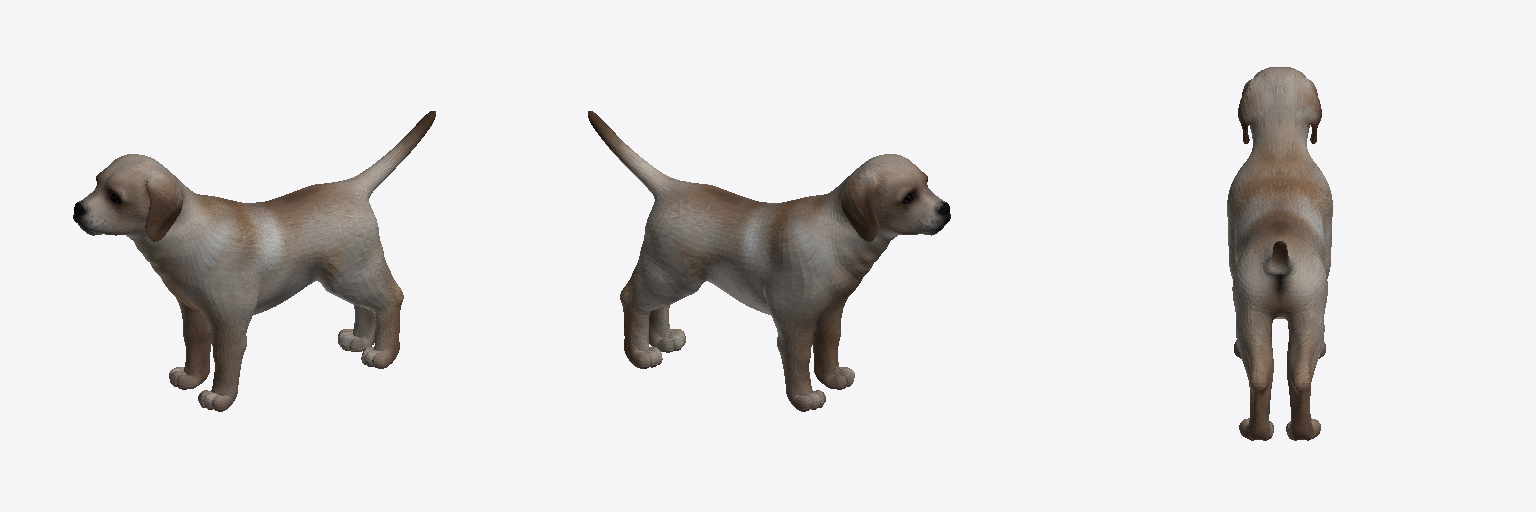
3 views of the same model, side by side, from view 1: azimuth 30°, elevation 25°; view 2: azimuth 150°, elevation 25°; view 3: azimuth 270°, elevation 25° (orthographic).
Visible parts, largest first — view 1: 037_Vray_Mesh; view 2: 037_Vray_Mesh; view 3: 037_Vray_Mesh.
Part boxes in pixels (x1,y1,x2,y2): 037_Vray_Mesh: (73, 111, 435, 411); 037_Vray_Mesh: (588, 111, 950, 411); 037_Vray_Mesh: (1227, 67, 1332, 440).
Bounding box in the file's own units: 0.9216 × 0.6205 × 0.2357.
1 materials, 1 textured.